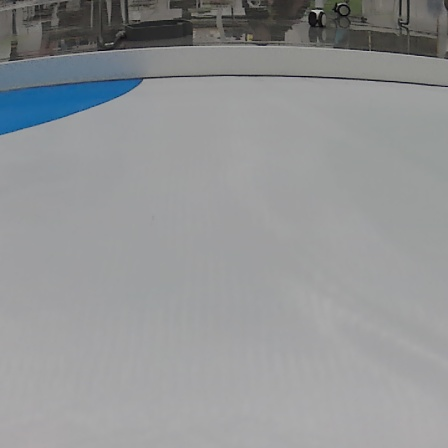blue_base: (0, 80, 149, 134)
